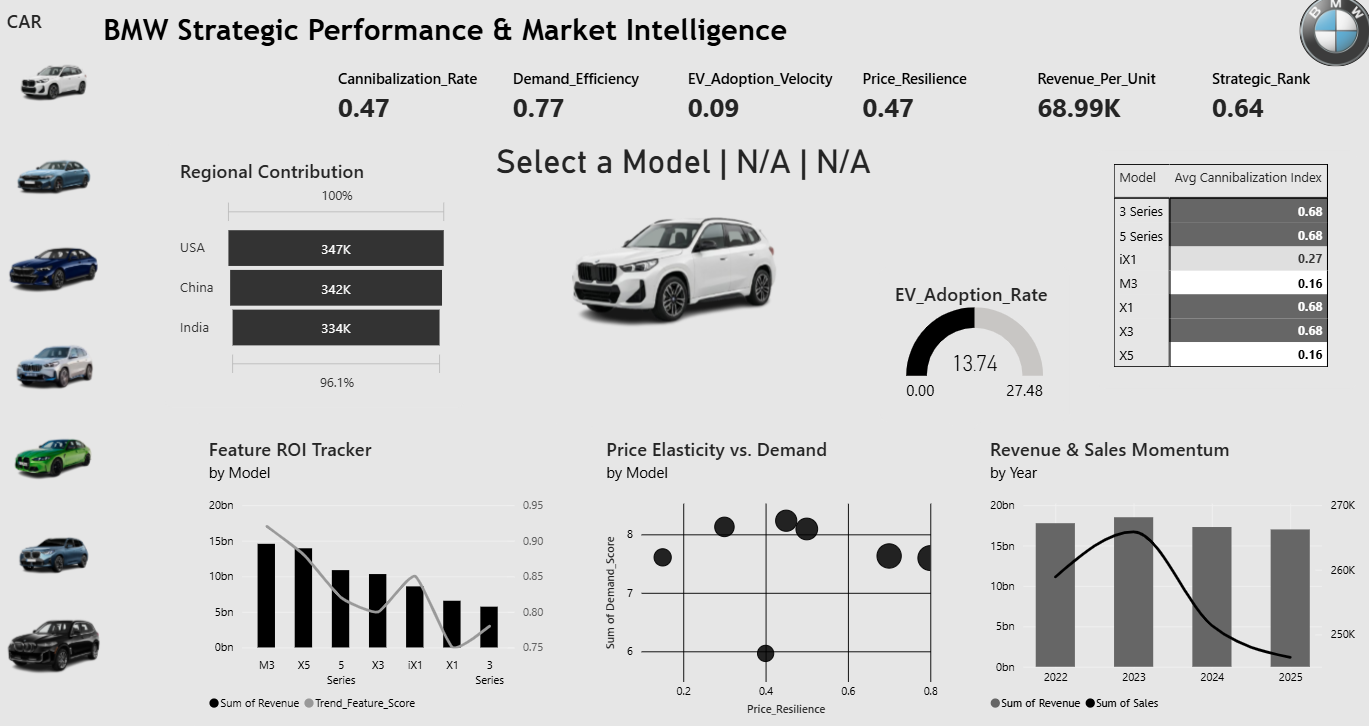

What the dashboard file says about the page in this screenshot:
{"tool":"powerbi","page":{"name":"Page 1","canvas":[1500,800],"ordinal":0},"visuals":[{"type":"ImageGrid_FC5183B9_926C_45E0_B5F7_0CE9EAF1DA9B","fields":{"ImageURLHQ":["Sheet1.CAR"]},"box":[0,0,134.3,800],"z":0},{"type":"simpleImageEBC4593F96F1425FB3D84C5BF02B5075","fields":{"imageURL":["Sheet1.CAR"]},"box":[568.6,197.1,347.1,251.4],"z":1000},{"type":"image","box":[1421.2,0,78.8,77.4],"z":2000},{"type":"cardVisual","fields":{"Data":["Sheet1.Cannibalization_Rate","Sheet1.Demand_Efficiency","Sheet1.EV_Adoption_Velocity","Sheet1.Price_Resilience","Sheet1.Revenue_Per_Unit","Sheet1.Strategic_Rank"]},"box":[364.3,51.4,1135.7,115.7],"z":3000},{"type":"PBI_CV_7B952816_A48F_49B4_9E13_15E3BB2C0337","fields":{"Values":["Sheet1.Hero_Header_Text"]},"box":[481.4,137.1,541.4,82.9],"z":4000},{"type":"lineClusteredColumnComboChart","title":"Revenue & Sales Momentum","fields":{"Category":["Sheet1.Year"],"Y":["Sum(Sheet1.Revenue)"],"Y2":["Sum(Sheet1.Sales)"]},"box":[1068.6,464.3,431.4,335.7],"z":5000},{"type":"scatterChart","title":"Price Elasticity vs. Demand","fields":{"X":["Sheet1.Price_Resilience"],"Y":["Sum(Sheet1.Demand_Score)"],"Size":["Sum(Sheet1.Revenue)"],"Category":["Sheet1.Model"]},"box":[651.4,464.3,394.3,335.7],"z":6000},{"type":"funnel","title":"Regional Contribution","fields":{"Category":["Sheet1.Country"],"Y":["Sum(Sheet1.Sales)"]},"box":[187.1,161.4,325.7,287.1],"z":7000},{"type":"pivotTable","fields":{"Rows":["Sheet1.Model"],"Values":["Sheet1.Avg Cannibalization Index"]},"box":[1202.9,168.6,281.4,260],"z":8000},{"type":"lineStackedColumnComboChart","title":"Feature ROI Tracker","fields":{"Category":["Sheet1.Model"],"Y":["Sum(Sheet1.Revenue)"],"Y2":["Sheet1.Trend_Feature_Score"]},"box":[218.6,464.3,398.6,335.7],"z":9000},{"type":"gauge","title":" EV_Adoption_Rate","fields":{"Y":["Sum(Sheet1.EV_Adoption_Rate)"]},"box":[964.3,295.7,207.1,167.1],"z":10000},{"type":"textbox","box":[121.4,18.6,781.4,40],"z":11000}]}

Visuals, with their boxes in screenshot pixels (x1, y1, x2, y2), scaled from the page's 1500x800 canvas onto the 1369x726 screenshot:
ImageGrid_FC5183B9_926C_45E0_B5F7_0CE9EAF1DA9B - Sheet1.CAR: {"x1": 0, "y1": 0, "x2": 123, "y2": 725}
simpleImageEBC4593F96F1425FB3D84C5BF02B5075 - Sheet1.CAR: {"x1": 519, "y1": 179, "x2": 836, "y2": 407}
image: {"x1": 1297, "y1": 0, "x2": 1368, "y2": 70}
cardVisual - Sheet1.Cannibalization_Rate x Sheet1.Demand_Efficiency: {"x1": 332, "y1": 47, "x2": 1368, "y2": 152}
PBI_CV_7B952816_A48F_49B4_9E13_15E3BB2C0337 - Sheet1.Hero_Header_Text: {"x1": 439, "y1": 124, "x2": 933, "y2": 200}
"Revenue & Sales Momentum" lineClusteredColumnComboChart: {"x1": 975, "y1": 421, "x2": 1368, "y2": 725}
"Price Elasticity vs. Demand" scatterChart: {"x1": 595, "y1": 421, "x2": 954, "y2": 725}
"Regional Contribution" funnel: {"x1": 171, "y1": 146, "x2": 468, "y2": 407}
pivotTable - Sheet1.Model x Sheet1.Avg Cannibalization Index: {"x1": 1098, "y1": 153, "x2": 1355, "y2": 389}
"Feature ROI Tracker" lineStackedColumnComboChart: {"x1": 200, "y1": 421, "x2": 563, "y2": 725}
" EV_Adoption_Rate" gauge: {"x1": 880, "y1": 268, "x2": 1069, "y2": 420}
textbox: {"x1": 111, "y1": 17, "x2": 824, "y2": 53}
